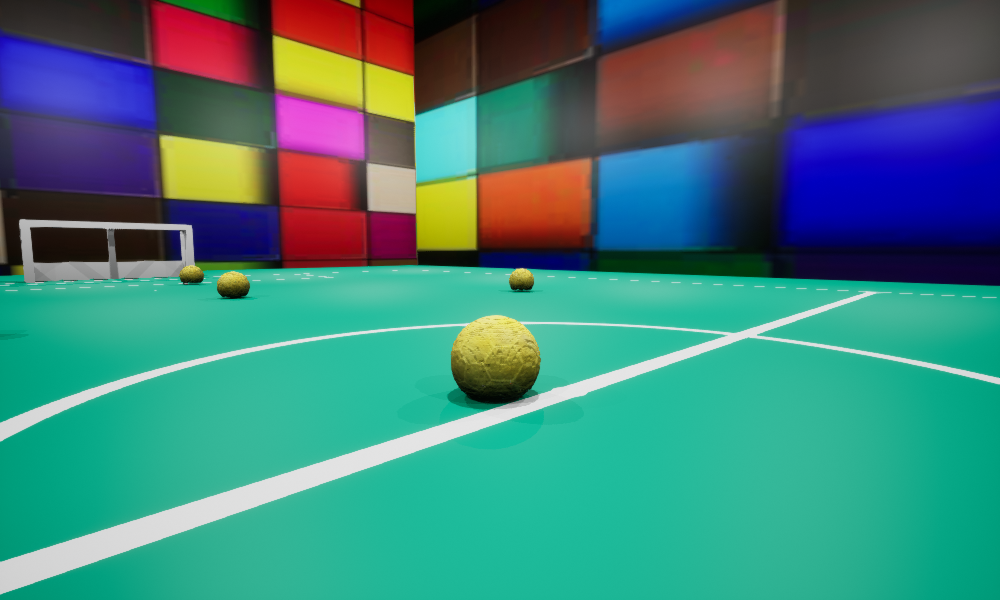b: (451, 315, 540, 401), (217, 271, 249, 296), (509, 268, 533, 291), (179, 265, 203, 284)
g: (19, 219, 194, 282)
